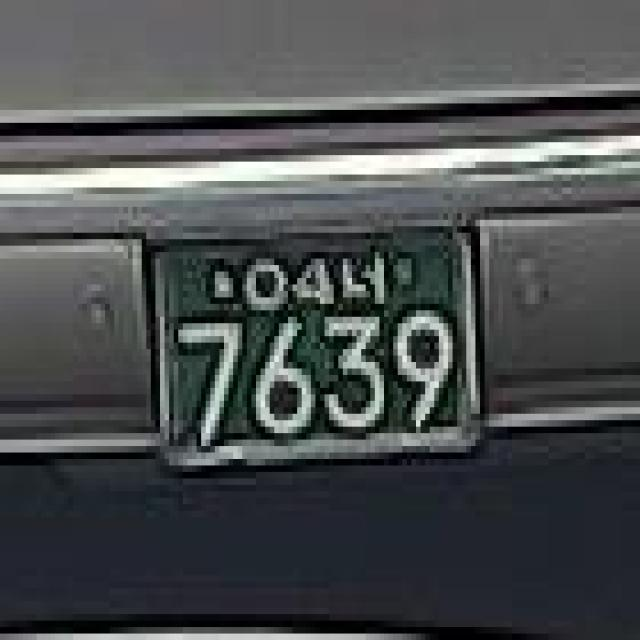illegal_plate: (134, 212, 498, 486)
